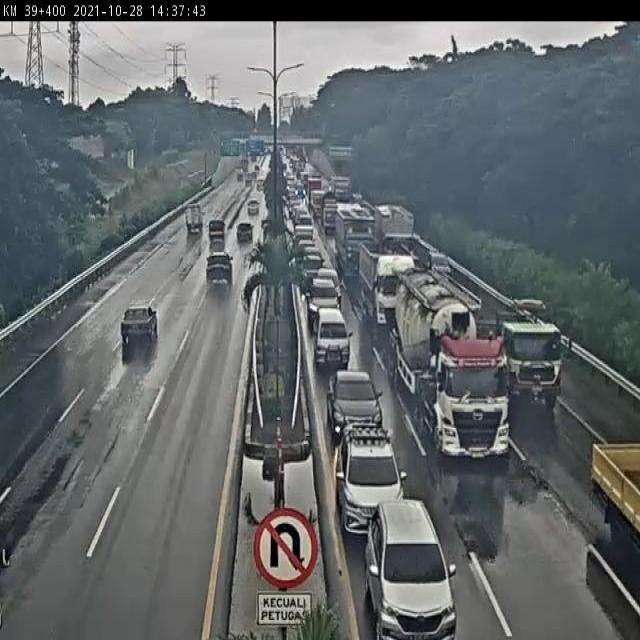big truck: (386, 264, 494, 448), (482, 280, 564, 399), (348, 232, 404, 323), (335, 200, 375, 279)
car: (356, 489, 455, 640), (333, 415, 404, 524), (323, 362, 379, 429), (112, 298, 166, 358), (311, 306, 355, 371), (198, 244, 238, 292), (423, 239, 458, 285), (305, 277, 343, 315), (226, 217, 255, 263), (200, 213, 225, 252), (298, 245, 327, 276), (239, 194, 260, 222)
small truck: (583, 403, 640, 561), (174, 197, 204, 239)
